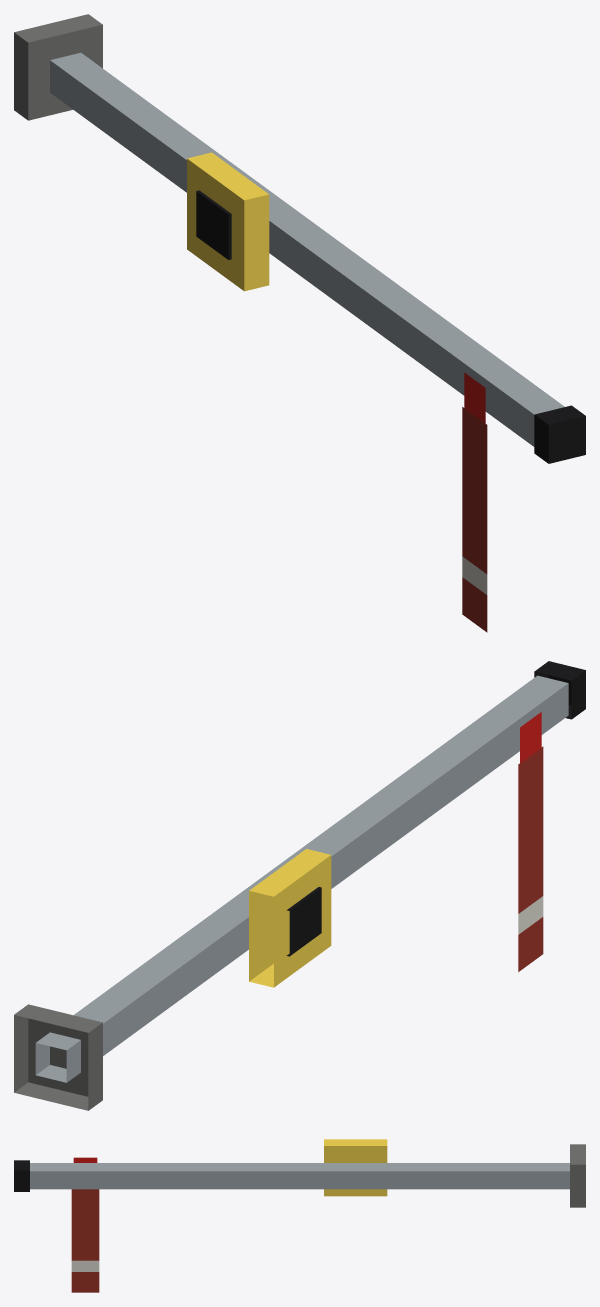
File: red.glb
3 views of the same model, one above another, from view 1: azimuth 30°, elevation 25°; view 2: azimuth 150°, elevation 25°; view 3: azimuth 270°, elevation 25° (orthographic). The views are drawn at different scales.
Visible parts, largest first — view 1: signal_semaphore_combo_red; view 2: signal_semaphore_combo_red; view 3: signal_semaphore_combo_red.
Boxes of the visible parts, x1,y1,x2,y2 form: signal_semaphore_combo_red: (14, 14, 585, 632); signal_semaphore_combo_red: (14, 661, 585, 1110); signal_semaphore_combo_red: (14, 1139, 585, 1292).
Bounding box in the file's own units: 1.35 × 4.15 × 14.4.
